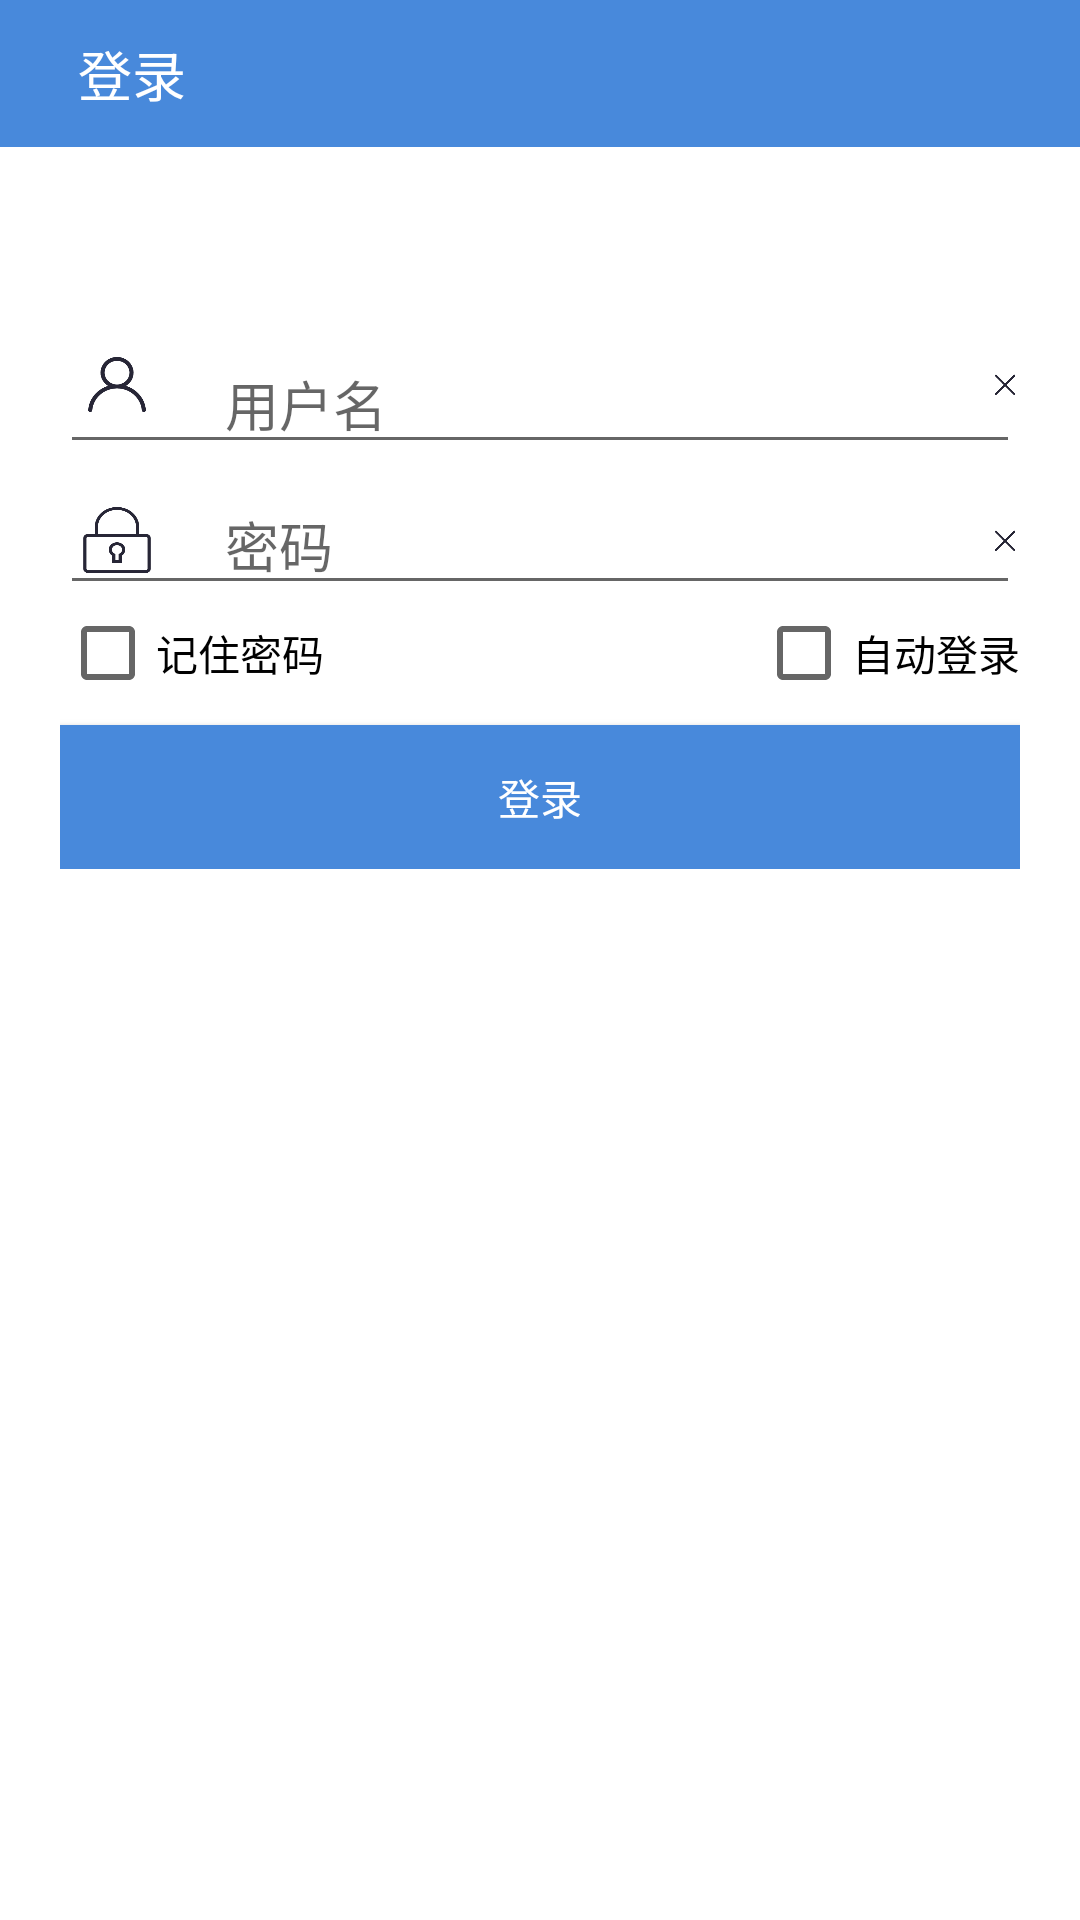

Named icons in this screenshot (1080x1920) and their bounding boxes, (x1,y1,x2,y2):
user: (88,357,146,412)
